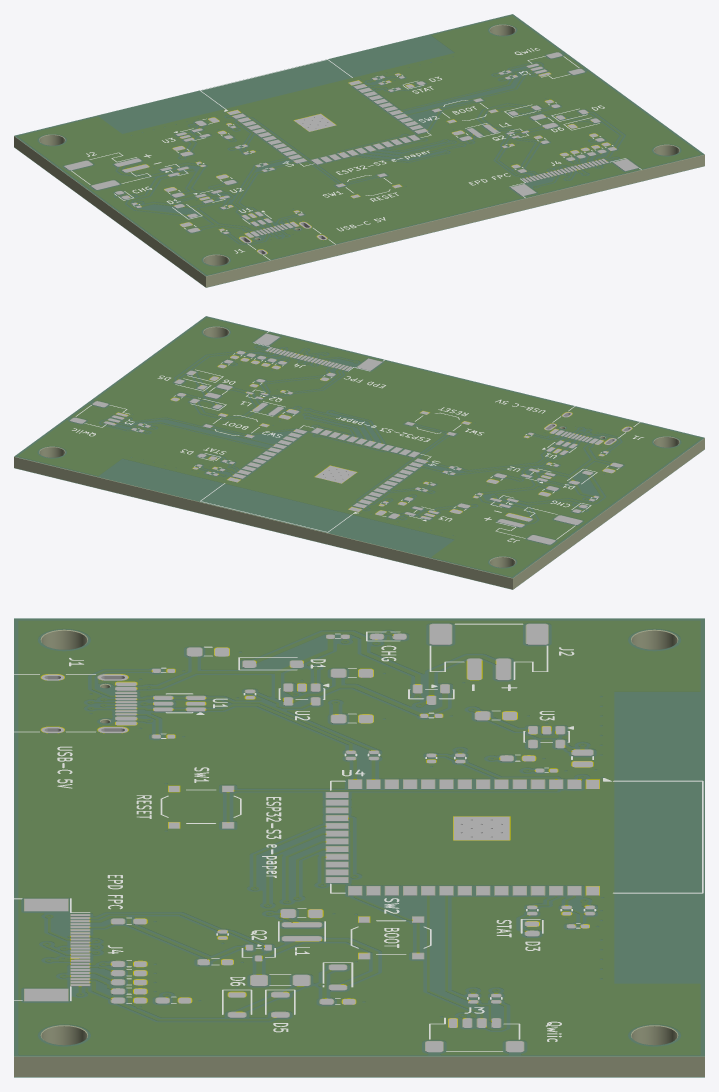
Rendered from board.glb.
3 views of the same model, one above another, from view 1: azimuth 30°, elevation 25°; view 2: azimuth 150°, elevation 25°; view 3: azimuth 270°, elevation 25° (orthographic). The views are drawn at different scales.
Visible parts, largest first — view 1: =>[0:1:1:6], =>[0:1:1:2], =>[0:1:1:8], =>[0:1:1:5]; view 2: =>[0:1:1:6], =>[0:1:1:2], =>[0:1:1:8], =>[0:1:1:5]; view 3: =>[0:1:1:6], =>[0:1:1:2], =>[0:1:1:8], =>[0:1:1:5].
Part boxes in pixels (bbox=[...]): =>[0:1:1:6]: bbox=[14, 14, 704, 287]; =>[0:1:1:2]: bbox=[18, 16, 700, 274]; =>[0:1:1:8]: bbox=[14, 15, 704, 287]; =>[0:1:1:5]: bbox=[71, 48, 641, 260]; =>[0:1:1:6]: bbox=[14, 316, 704, 589]; =>[0:1:1:2]: bbox=[18, 318, 700, 576]; =>[0:1:1:8]: bbox=[14, 317, 704, 589]; =>[0:1:1:5]: bbox=[72, 331, 643, 542]; =>[0:1:1:6]: bbox=[14, 618, 704, 1077]; =>[0:1:1:2]: bbox=[19, 621, 699, 1054]; =>[0:1:1:8]: bbox=[14, 619, 704, 1076]; =>[0:1:1:5]: bbox=[14, 623, 703, 1051].
Bounding box in the file's own units: 0.072 × 0.00163 × 0.048.
4 materials, 4 textured.
